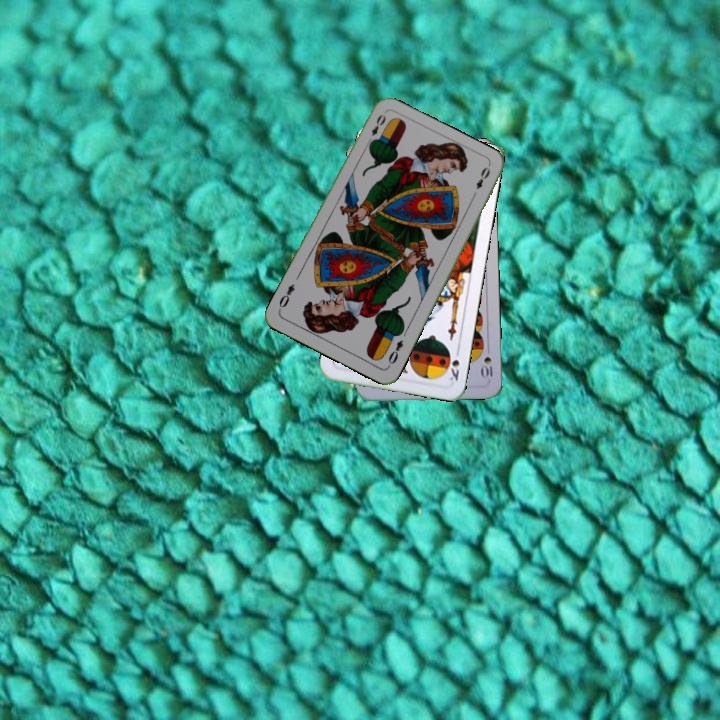EO: (363, 110, 388, 147), (384, 336, 406, 367)
S10: (478, 353, 495, 381)
SK: (446, 344, 462, 384)
